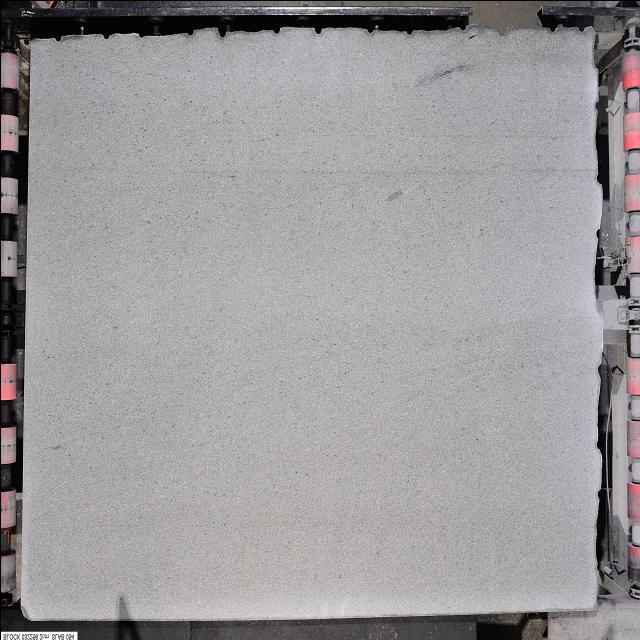chapa: (21, 26, 601, 618)
veio: (216, 22, 227, 38), (496, 22, 509, 34), (269, 22, 281, 34), (312, 24, 324, 34)
